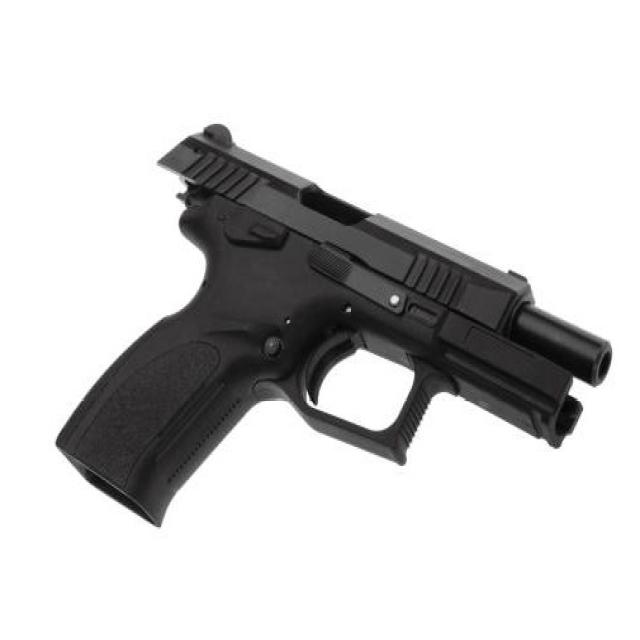pistol: (53, 120, 618, 533)
